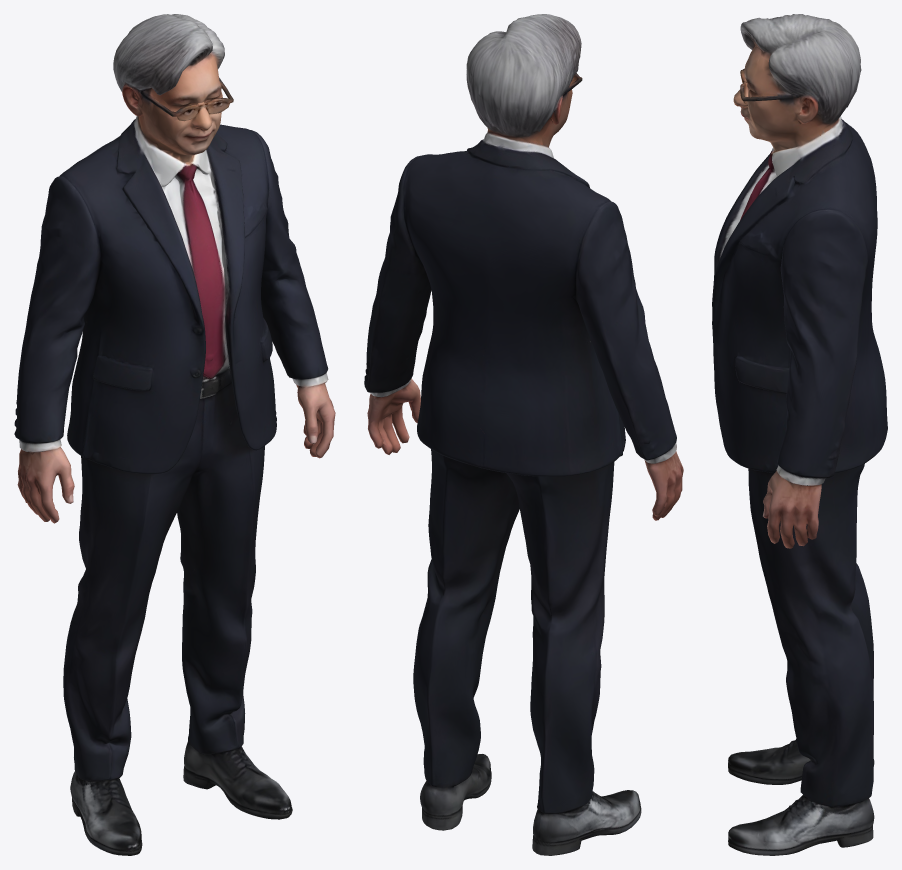
File: npc_lin.glb
3 views of the same model, side by side, from view 1: azimuth 30°, elevation 25°; view 2: azimuth 150°, elevation 25°; view 3: azimuth 270°, elevation 25° (orthographic).
Visible parts, largest first — view 1: tripo_node_8f553b5e-9c17-44eb-b15c-b69a40919fba; view 2: tripo_node_8f553b5e-9c17-44eb-b15c-b69a40919fba; view 3: tripo_node_8f553b5e-9c17-44eb-b15c-b69a40919fba.
Part boxes in pixels (x1,y1,x2,y2): tripo_node_8f553b5e-9c17-44eb-b15c-b69a40919fba: (14, 14, 335, 855); tripo_node_8f553b5e-9c17-44eb-b15c-b69a40919fba: (364, 14, 683, 855); tripo_node_8f553b5e-9c17-44eb-b15c-b69a40919fba: (712, 14, 887, 855).
Bounding box in the file's own units: 0.7249 × 1.8 × 0.3613.
1 material, 1 textured.
